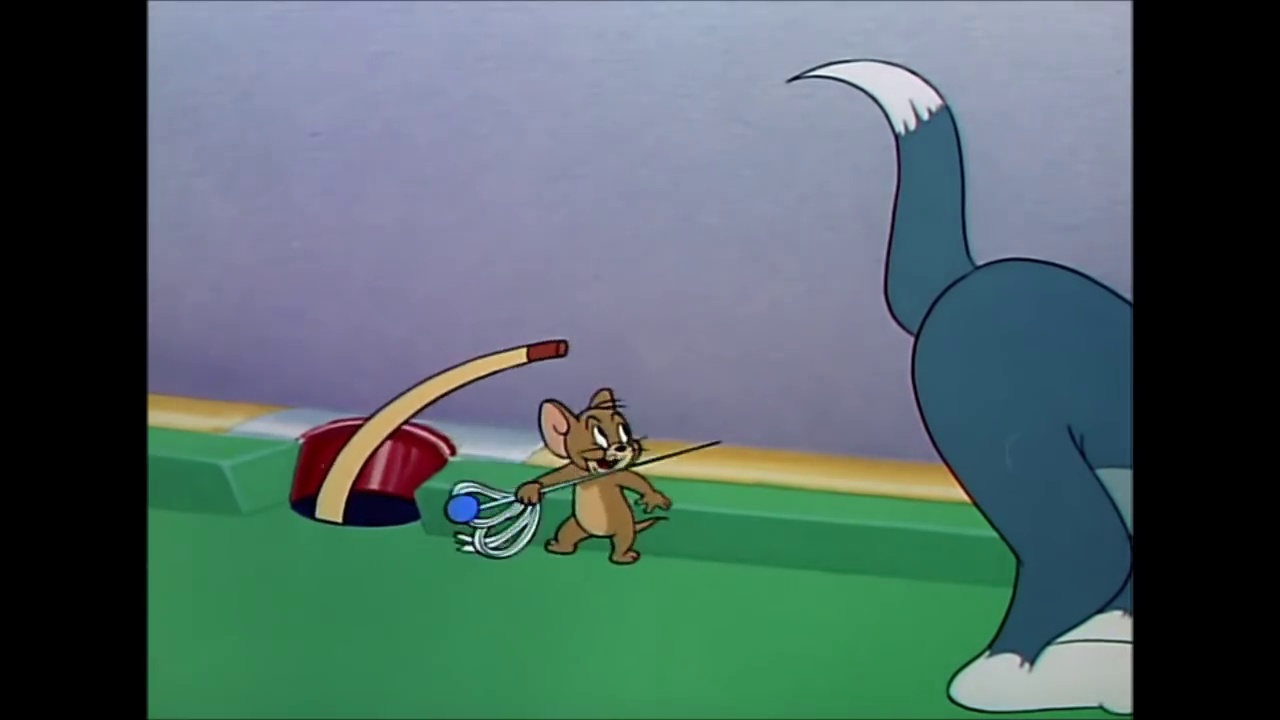happy: (586, 411, 632, 478)
